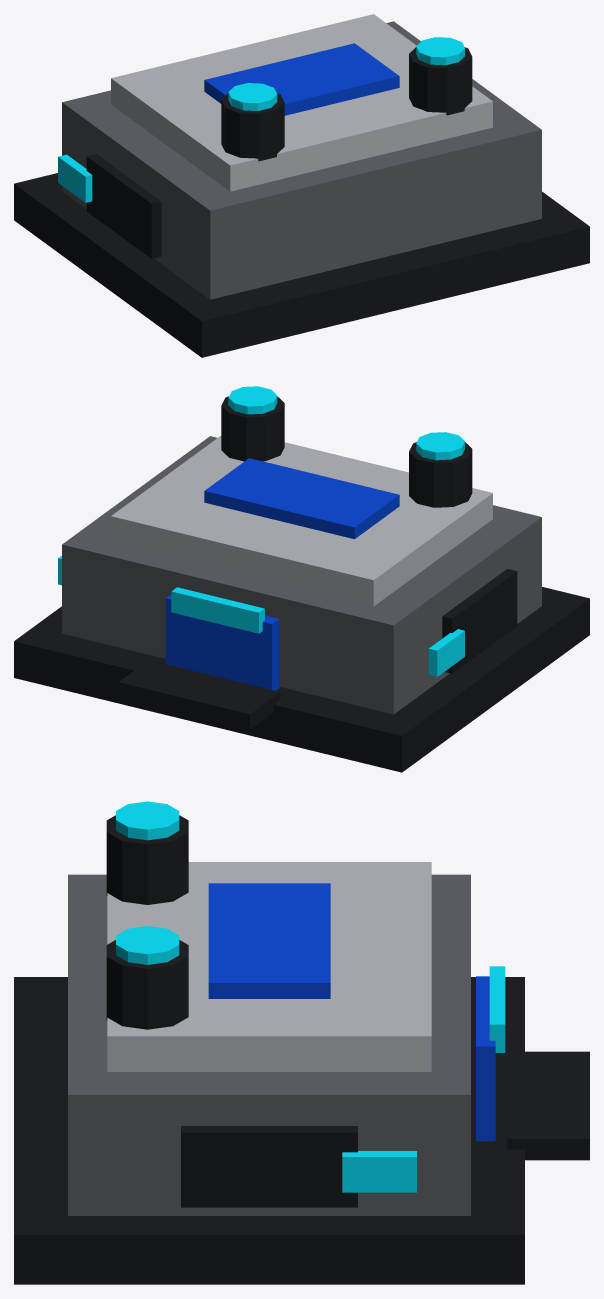
Rendered from RTS_Barracks.obj.
The picture shows the model from 3 angles, top to bottom: view 1: azimuth 30°, elevation 25°; view 2: azimuth 150°, elevation 25°; view 3: azimuth 270°, elevation 25°; orthographic projection. The views are drawn at different scales.
Parts seen in each view (by area): view 1: RTS_Barracks; view 2: RTS_Barracks; view 3: RTS_Barracks.
Part boxes in pixels (x1=…): RTS_Barracks: x1=14, y1=14, x2=589, y2=357; RTS_Barracks: x1=14, y1=386, x2=589, y2=772; RTS_Barracks: x1=14, y1=801, x2=589, y2=1284.
Bounding box in the file's own units: 3.1 × 1.56 × 2.93.
